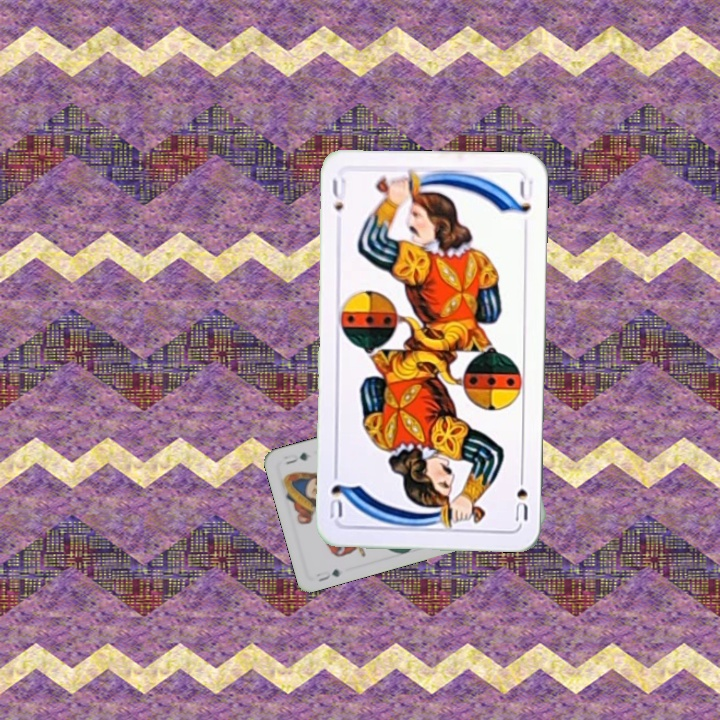GU: (314, 565, 343, 584)
SU: (511, 467, 530, 524), (328, 174, 349, 214)
